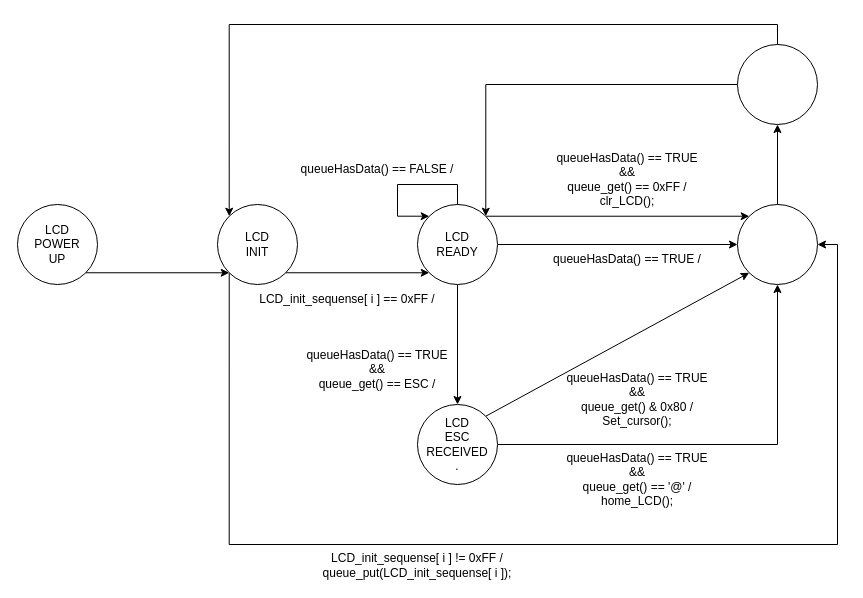
Some shapes in this 863 by 598 pixel diagram are drawn without their labels. Each missing label, with the box of its shape:
Write lower 4b to LCD: (736, 44, 818, 124)
Write upper 4b to LCD: (736, 204, 818, 284)
